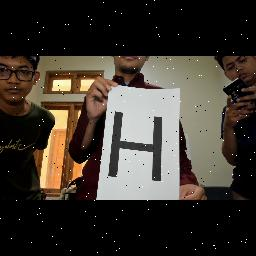h: (104, 106, 168, 192)
